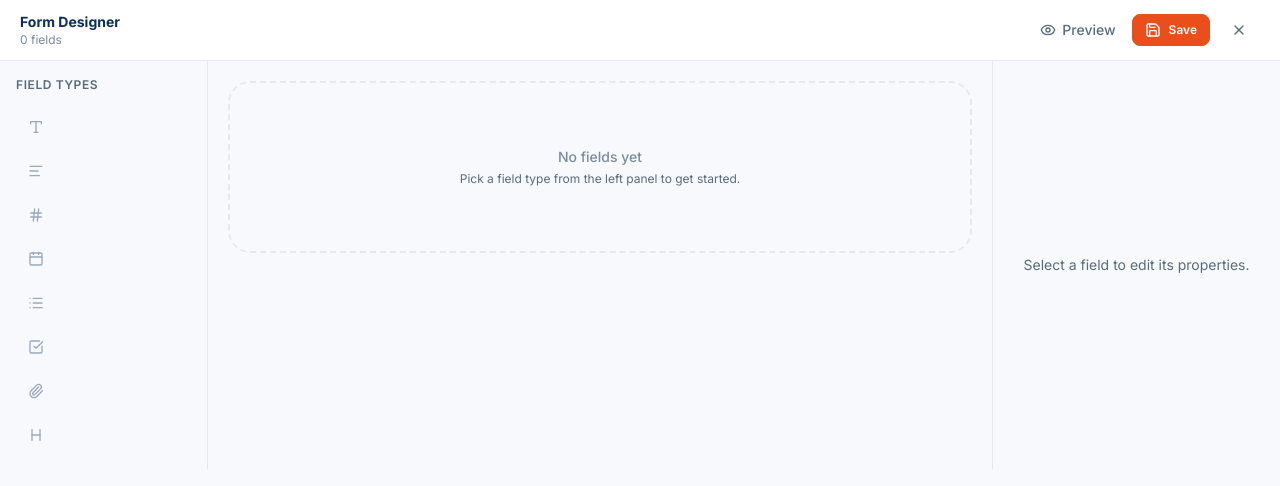
PortalFormDesigner › adding a Text field from the palette adds it to the canvas
Click "Text" in the palette
What coordinates should you click on to do the following:
click the button named "text"
I would click on:
 (104, 127)
Its box is [16,109,191,145].
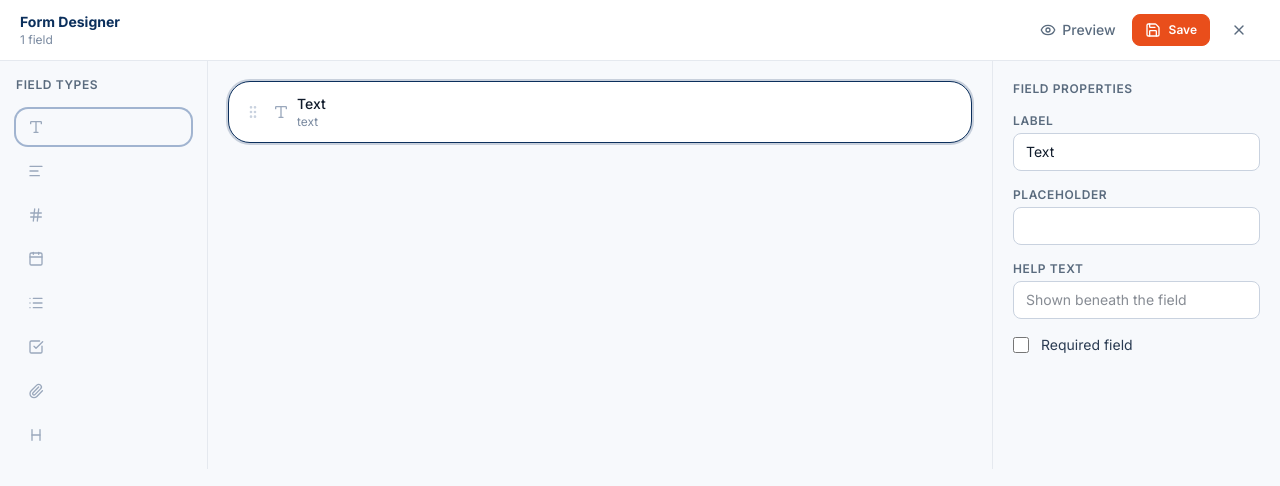
Expected: the text "Text" is shown, [297,95,326,112]
Expected: the number of list items is 1, [228,81,972,143]
